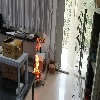fire: (33, 37, 41, 79)
